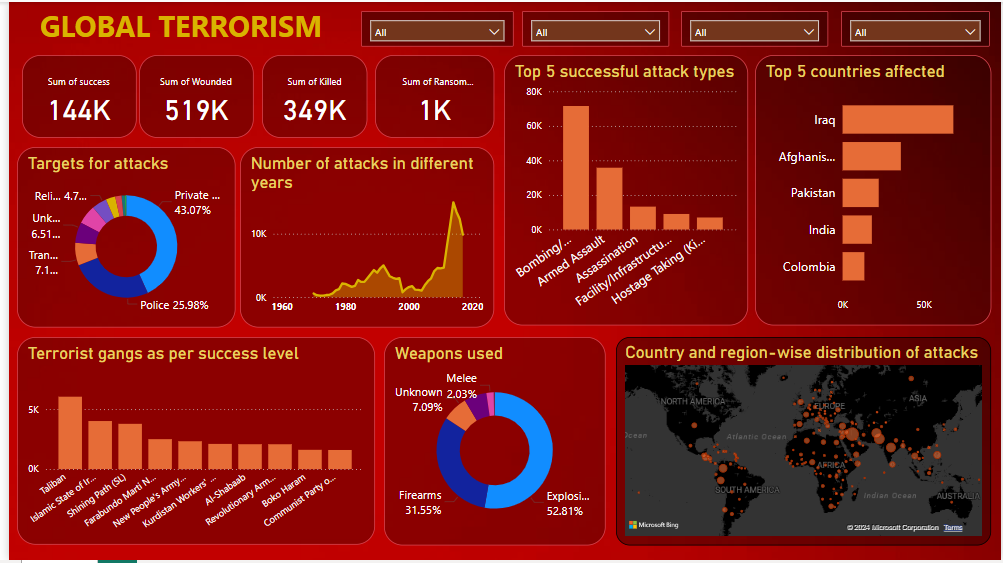

The page's visual inventory and layout, read from the dashboard file:
{"tool":"powerbi","page":{"name":"Page 1","canvas":[1280,720],"ordinal":0},"visuals":[{"type":"textbox","box":[9.8,0,423,68.9],"z":0},{"type":"barChart","title":"Top 5 countries affected","fields":{"Category":["Sparks Internship (Terrorism) Dataset.country_txt"],"Y":["Sum(Sparks Internship (Terrorism) Dataset.nkill)"]},"box":[962.3,68.9,304.9,349.2],"z":1000},{"type":"donutChart","title":"Weapons used","fields":{"Y":["CountNonNull(Sparks Internship (Terrorism) Dataset.weaptype1_txt)"],"Category":["Sparks Internship (Terrorism) Dataset.weaptype1_txt"]},"box":[483.8,431.7,285.6,268.8],"z":2000},{"type":"stackedAreaChart","title":"Number of attacks in different years","fields":{"Category":["Sparks Internship (Terrorism) Dataset.iyear"],"Y":["CountNonNull(Sparks Internship (Terrorism) Dataset.nkill)"]},"box":[298.4,186.9,327.9,232.8],"z":3000},{"type":"donutChart","title":"Targets for attacks","fields":{"Category":["Sparks Internship (Terrorism) Dataset.targtype1_txt"],"Y":["CountNonNull(Sparks Internship (Terrorism) Dataset.targtype1_txt)"]},"box":[9.8,186.9,282,232.8],"z":4000},{"type":"map","title":"Country and region-wise distribution of attacks","fields":{"Category":["Sparks Internship (Terrorism) Dataset.country_txt","Sparks Internship (Terrorism) Dataset.city"],"Size":["Sum(Sparks Internship (Terrorism) Dataset.success)"]},"box":[782.8,431.7,483.8,268.8],"z":5000},{"type":"columnChart","title":"Terrorist gangs as per success level","fields":{"Category":["Sparks Internship (Terrorism) Dataset.gname"],"Y":["Sum(Sparks Internship (Terrorism) Dataset.success)"]},"box":[10.3,432.3,461.9,268.4],"z":6000},{"type":"columnChart","title":"Top 5 successful attack  types","fields":{"Y":["Sum(Sparks Internship (Terrorism) Dataset.success)"],"Category":["Sparks Internship (Terrorism) Dataset.attacktype1_txt"]},"box":[639.3,68.9,314.8,349.2],"z":7000},{"type":"cardVisual","fields":{"Data":["Sum(Sparks Internship (Terrorism) Dataset.success)"]},"box":[16.4,68.9,147.5,106.6],"z":8000},{"type":"cardVisual","fields":{"Data":["Sum(Sparks Internship (Terrorism) Dataset.nwound)"]},"box":[167.2,68.9,147.5,106.6],"z":9000},{"type":"cardVisual","fields":{"Data":["Sum(Sparks Internship (Terrorism) Dataset.nkill)"]},"box":[326.2,68.9,136.1,106.6],"z":10000},{"type":"cardVisual","fields":{"Data":["Sum(Sparks Internship (Terrorism) Dataset.ransom)"]},"box":[472.1,68.9,154.1,106.6],"z":11000},{"type":"slicer","fields":{"Values":["Sparks Internship (Terrorism) Dataset.country_txt"]},"box":[1073.8,11.5,191.8,45.9],"z":12000},{"type":"slicer","fields":{"Values":["Sparks Internship (Terrorism) Dataset.iyear"]},"box":[867.2,11.5,190.2,45.9],"z":13000},{"type":"slicer","fields":{"Values":["Sparks Internship (Terrorism) Dataset.city"]},"box":[662.3,11.5,190.2,45.9],"z":14000},{"type":"slicer","fields":{"Values":["Sparks Internship (Terrorism) Dataset.gname"]},"box":[454.1,11.5,196.7,45.9],"z":15000}]}

Visuals, with their boxes in screenshot pixels (x1, y1, x2, y2), scaled from the page's 1280x720 canvas onto the 1003x563 screenshot:
textbox: 8,0,339,54
"Top 5 countries affected" barChart: 754,54,993,327
"Weapons used" donutChart: 379,338,603,548
"Number of attacks in different years" stackedAreaChart: 234,146,491,328
"Targets for attacks" donutChart: 8,146,229,328
"Country and region-wise distribution of attacks" map: 613,338,992,548
"Terrorist gangs as per success level" columnChart: 8,338,370,548
"Top 5 successful attack  types" columnChart: 501,54,748,327
cardVisual - Sum(Sparks Internship (Terrorism) Dataset.success): 13,54,128,137
cardVisual - Sum(Sparks Internship (Terrorism) Dataset.nwound): 131,54,247,137
cardVisual - Sum(Sparks Internship (Terrorism) Dataset.nkill): 256,54,362,137
cardVisual - Sum(Sparks Internship (Terrorism) Dataset.ransom): 370,54,491,137
slicer - Sparks Internship (Terrorism) Dataset.country_txt: 841,9,992,45
slicer - Sparks Internship (Terrorism) Dataset.iyear: 680,9,829,45
slicer - Sparks Internship (Terrorism) Dataset.city: 519,9,668,45
slicer - Sparks Internship (Terrorism) Dataset.gname: 356,9,510,45
